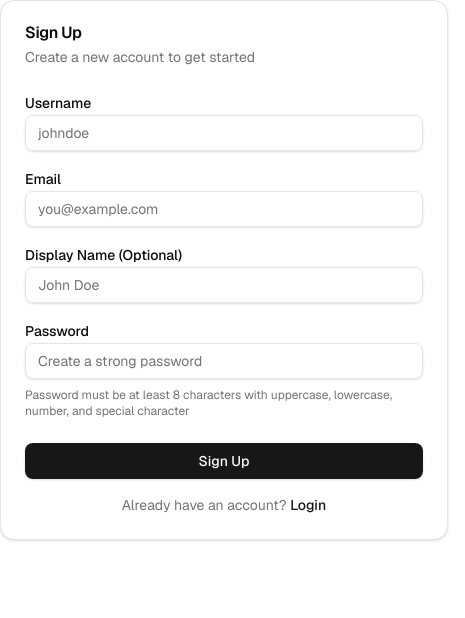
SignupForm › displays error message when signup fails
The width and height of the screenshot is (465, 618).
Type "existinguser" into the field labelled "Username" at (224, 133), box x1=25 y1=115 x2=423 y2=151
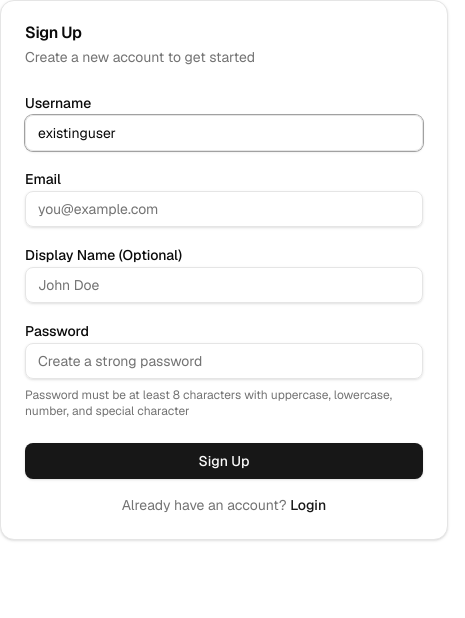
Type "test@example.com" into the field labelled "Email" at (224, 209), box x1=25 y1=191 x2=423 y2=227
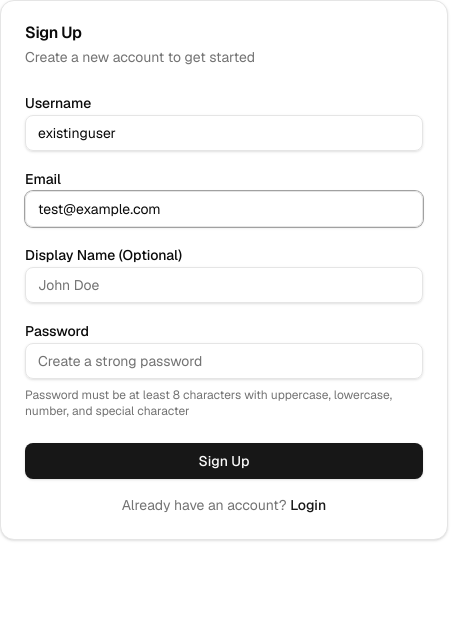
Type "Password123!" into the password field labelled "Password" at (224, 361), box x1=25 y1=343 x2=423 y2=379
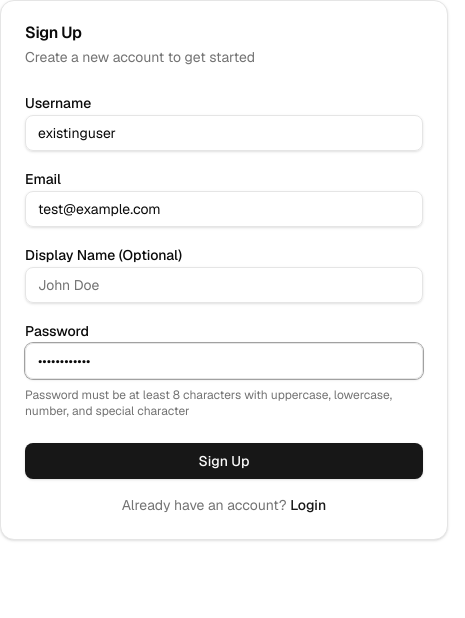
Click the button "Sign Up" at (224, 461), box x1=25 y1=443 x2=423 y2=479
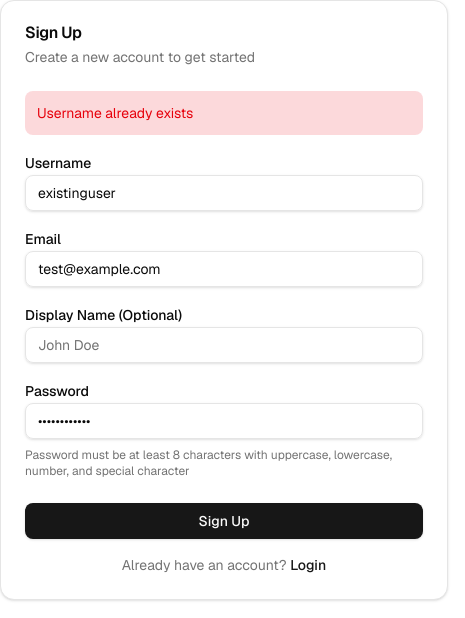
Expected: the text "Username already exists" is shown, x1=25 y1=91 x2=423 y2=135
